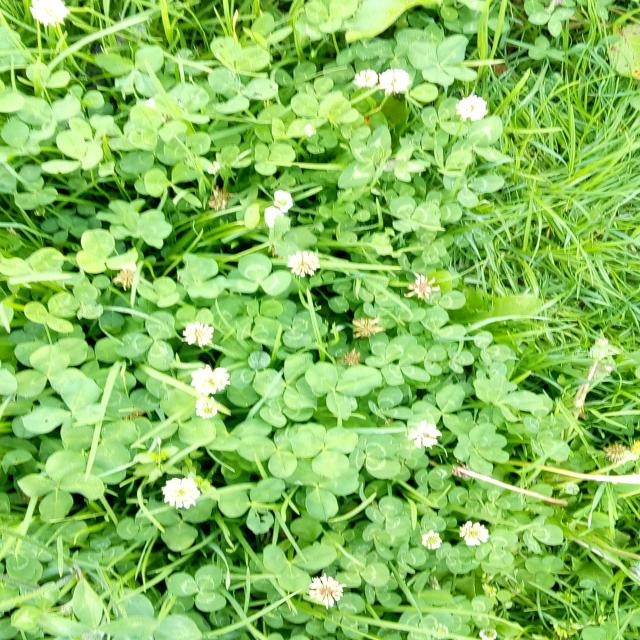Four Leaf Clover: (16, 449, 105, 525), (287, 421, 360, 480), (405, 34, 478, 87), (472, 371, 544, 421), (452, 424, 510, 476)
